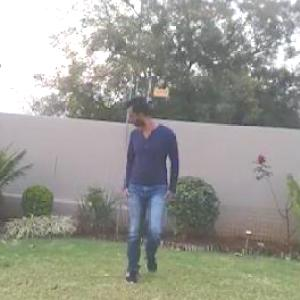follow: (112, 87, 179, 299)
